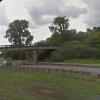Tree: (4, 10, 40, 44)
